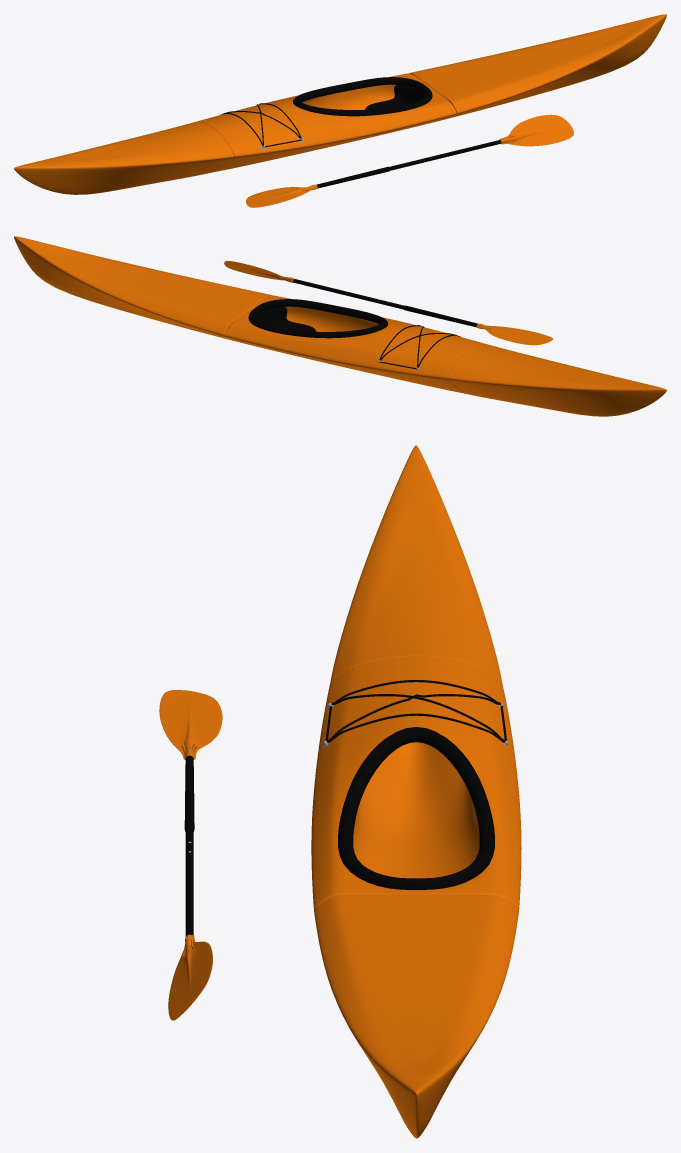
Rendered from camp_kayak.gltf.
3 views of the same model, one above another, from view 1: azimuth 30°, elevation 25°; view 2: azimuth 150°, elevation 25°; view 3: azimuth 270°, elevation 25° (orthographic). The views are drawn at different scales.
Parts seen in each view (by area): view 1: Kayak_4, Paddle_5, Padding_3, Kayak.001_2, Elastic_1; view 2: Kayak_4, Paddle_5, Padding_3, Kayak.001_2, Elastic_1; view 3: Kayak_4, Paddle_5, Padding_3, Elastic_1.
Boxes of the visible parts, <box> form: Kayak_4: <box>14,14,666,194</box>; Paddle_5: <box>246,114,573,207</box>; Padding_3: <box>292,77,432,116</box>; Kayak.001_2: <box>365,85,424,109</box>; Elastic_1: <box>221,103,301,147</box>; Kayak_4: <box>14,236,666,416</box>; Paddle_5: <box>224,261,552,345</box>; Padding_3: <box>248,299,387,338</box>; Kayak.001_2: <box>256,307,315,331</box>; Elastic_1: <box>379,325,459,369</box>; Kayak_4: <box>311,445,521,1138</box>; Paddle_5: <box>159,690,222,1020</box>; Padding_3: <box>338,727,494,889</box>; Elastic_1: <box>325,680,506,742</box>.
Bounding box in the file's own units: 2.21 × 0.1824 × 0.5299.
5 materials, 5 textured.
